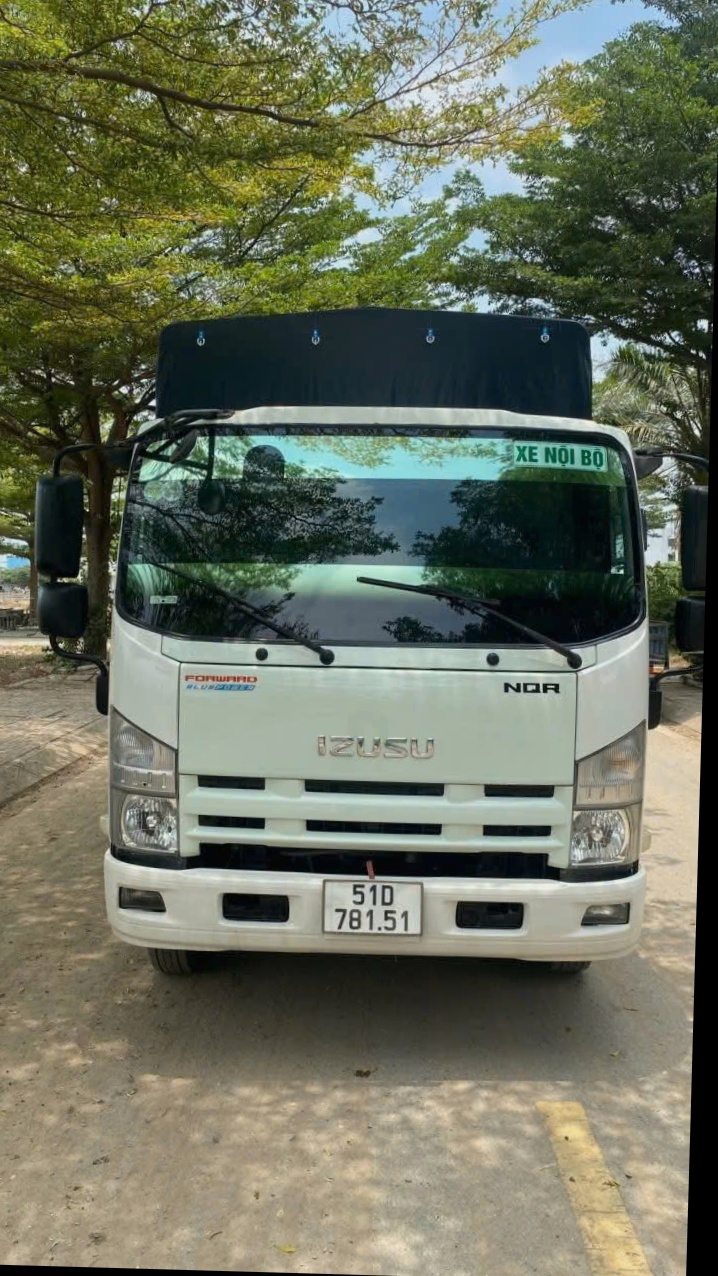Bien-so: (350, 856, 455, 927)
